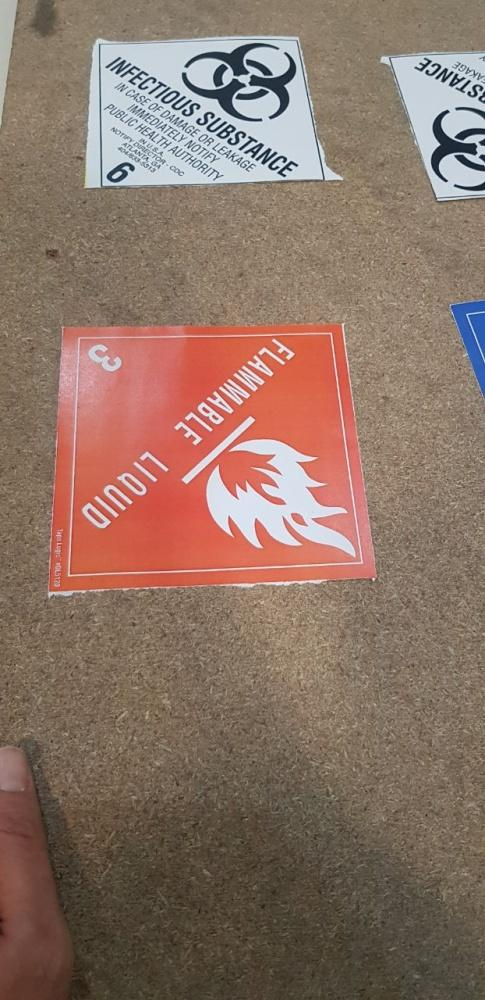flammable: (51, 325, 364, 596)
infectious-substance: (85, 33, 320, 192), (385, 46, 484, 203)
